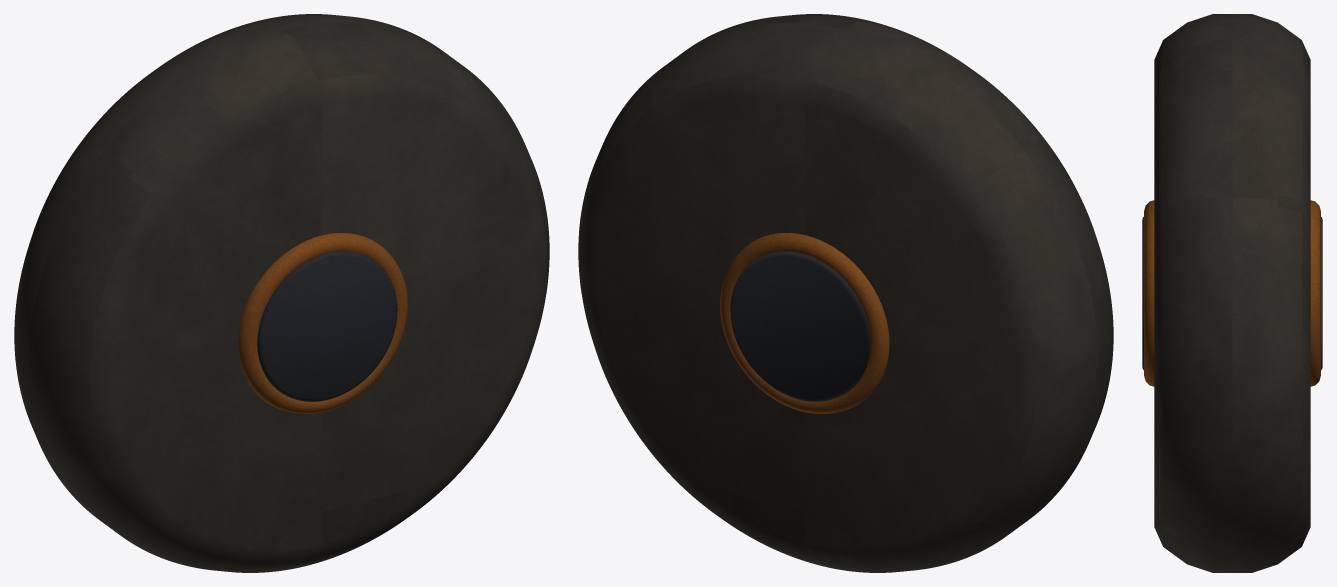
File: grinder-wheel.glb
3 views of the same model, side by side, from view 1: azimuth 30°, elevation 25°; view 2: azimuth 150°, elevation 25°; view 3: azimuth 270°, elevation 25° (orthographic). The views are drawn at different scales.
Parts seen in each view (by area): view 1: grinder-wheel; view 2: grinder-wheel; view 3: grinder-wheel.
Part boxes in pixels (<box>): grinder-wheel: <box>14,14,549,572</box>; grinder-wheel: <box>578,14,1113,572</box>; grinder-wheel: <box>1142,14,1322,572</box>.
Size of the model in its own units: 1.29 by 1.29 by 0.416.
Materials: 3 (3 with a texture image).
